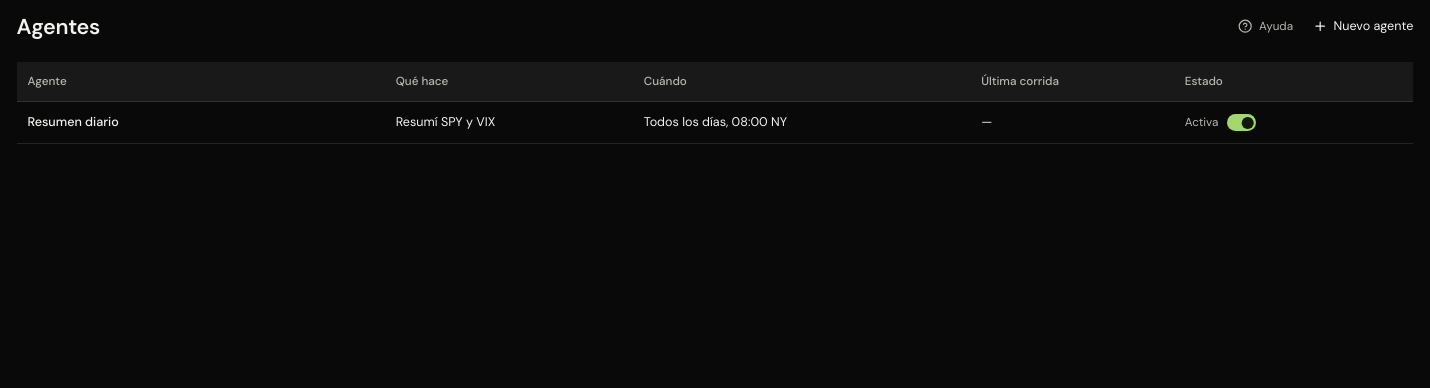
Scenario: Ejecutar siempre escribe request.run para el Lab
Click the button "Resumen diario" at (73, 122), box [27,114,119,130]
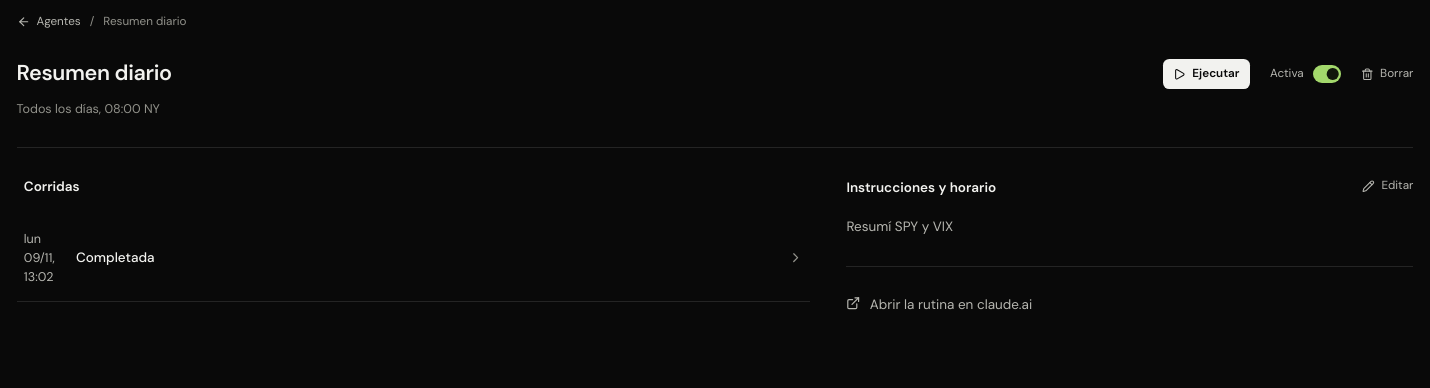
Result: the text "Completada" is shown at [76,249,155,266]
Click the button "Ejecutar" at (1206, 74), box [1163,59,1250,89]
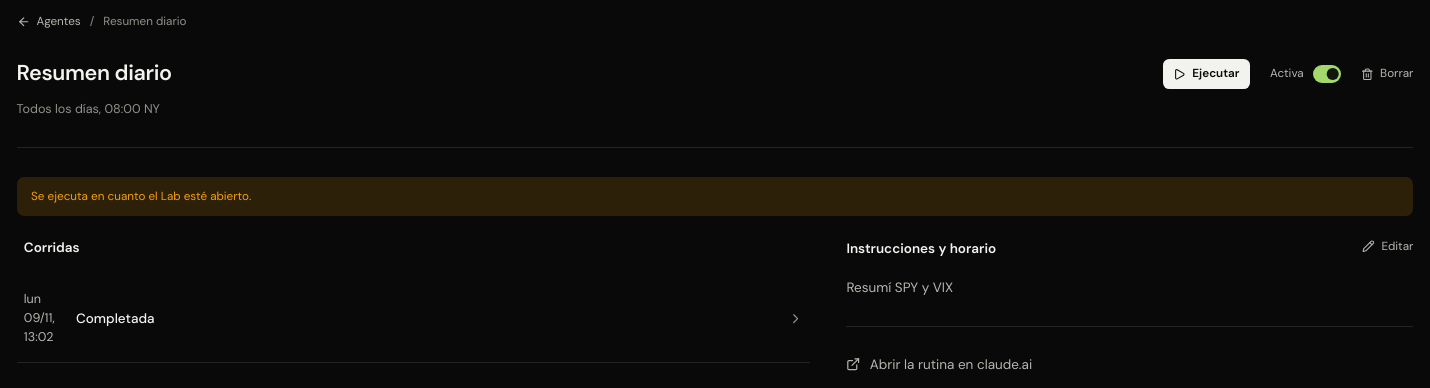
Result: the text "Se ejecuta en cuanto el Lab esté abierto." is shown at [17,177,1413,216]
